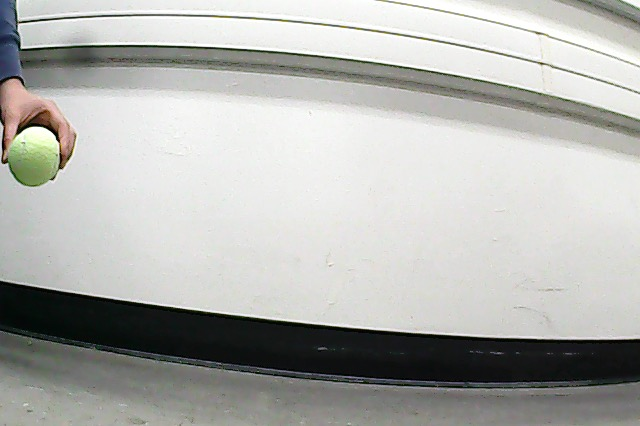ball: (6, 125, 63, 190)
